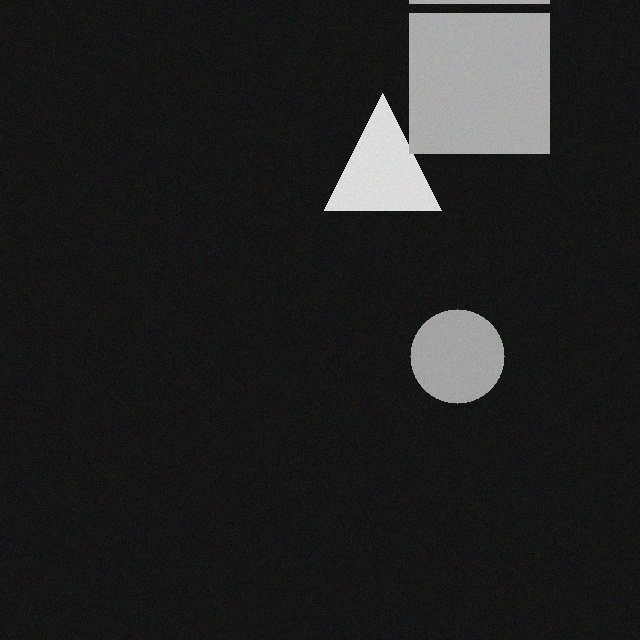circle: (418, 301, 512, 395)
square: (417, 5, 557, 145)
triangle: (332, 85, 449, 202)
